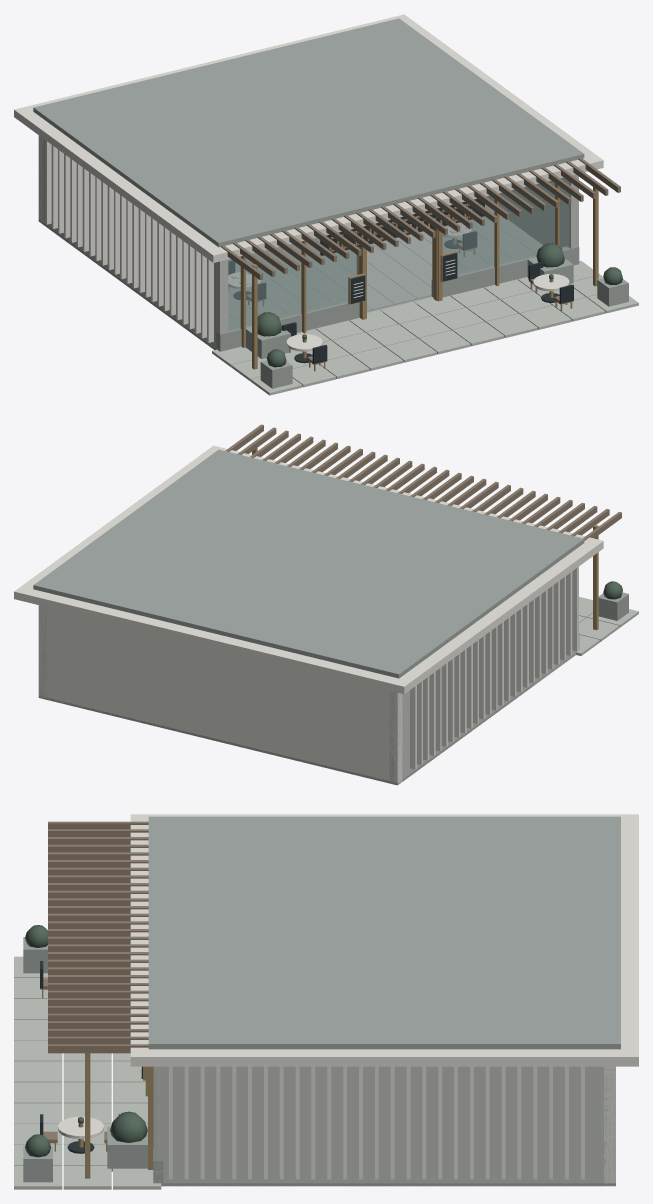
The picture shows the model from 3 angles, top to bottom: view 1: azimuth 30°, elevation 25°; view 2: azimuth 150°, elevation 25°; view 3: azimuth 270°, elevation 25°; orthographic projection. The views are drawn at different scales.
Parts seen in each view (by area): view 1: Olive Terrace: stone, Olive Terrace: ivory, Olive Terrace: concrete, Olive Terrace: glass, Olive Terrace: teak, Olive Terrace: bronze, Olive Terrace: dark, Olive Terrace: leaf; view 2: Olive Terrace: stone, Olive Terrace: ivory, Olive Terrace: teak, Olive Terrace: concrete, Olive Terrace: bronze; view 3: Olive Terrace: stone, Olive Terrace: concrete, Olive Terrace: ivory, Olive Terrace: teak, Olive Terrace: leaf, Olive Terrace: bronze.
Part boxes in pixels (<box>): Olive Terrace: stone: <box>33,18,628,388</box>; Olive Terrace: ivory: <box>14,14,603,351</box>; Olive Terrace: concrete: <box>39,136,638,395</box>; Olive Terrace: glass: <box>219,177,570,331</box>; Olive Terrace: teak: <box>220,157,620,364</box>; Olive Terrace: bronze: <box>228,183,598,371</box>; Olive Terrace: dark: <box>228,198,573,363</box>; Olive Terrace: leaf: <box>257,243,622,367</box>; Olive Terrace: stone: <box>33,449,628,785</box>; Olive Terrace: ivory: <box>14,445,603,784</box>; Olive Terrace: teak: <box>225,424,621,540</box>; Olive Terrace: concrete: <box>39,567,638,784</box>; Olive Terrace: bronze: <box>252,448,598,630</box>; Olive Terrace: stone: <box>23,816,620,1186</box>; Olive Terrace: concrete: <box>14,956,615,1189</box>; Olive Terrace: ivory: <box>58,814,638,1186</box>; Olive Terrace: teak: <box>40,821,148,1143</box>; Olive Terrace: leaf: <box>25,925,147,1157</box>; Olive Terrace: bronze: <box>42,989,153,1178</box>.
Size of the model in its own units: 17.4 by 4.83 by 18.93.
